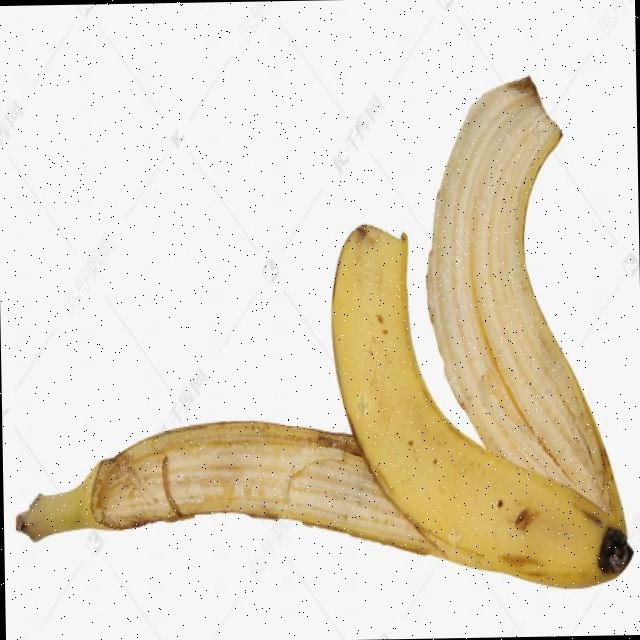banana-peel: (7, 71, 633, 598), (327, 215, 632, 592), (419, 71, 628, 539), (12, 414, 439, 566)
